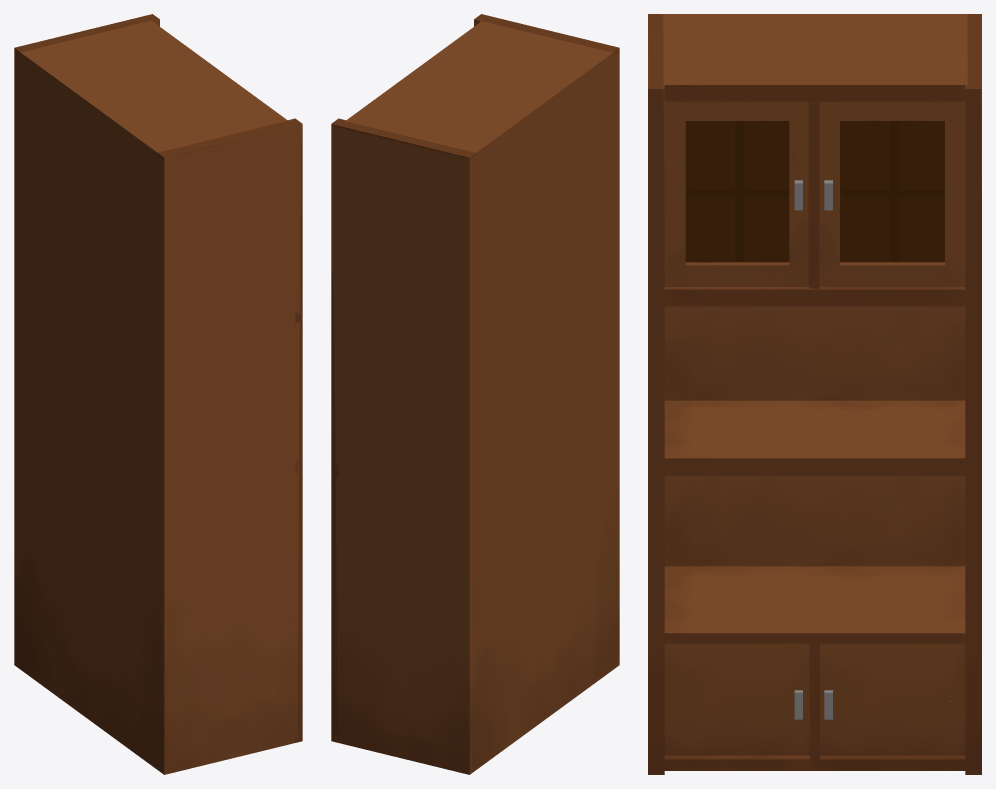
Rendered from cupboard_empty.fbx.
3 renders of one model, left to right at view 1: azimuth 30°, elevation 25°; view 2: azimuth 150°, elevation 25°; view 3: azimuth 270°, elevation 25°, orthographic. The views are drawn at different scales.
Visible parts, largest first — view 1: Cupboard1_pCube4; view 2: Cupboard1_pCube4; view 3: Cupboard1_pCube4.
Part boxes in pixels (bbox=[...]): Cupboard1_pCube4: bbox=[14, 14, 302, 774]; Cupboard1_pCube4: bbox=[331, 14, 619, 774]; Cupboard1_pCube4: bbox=[648, 14, 981, 774].
Bounding box in the file's own units: 96.95 × 413 × 182.
1 material, 1 textured.
